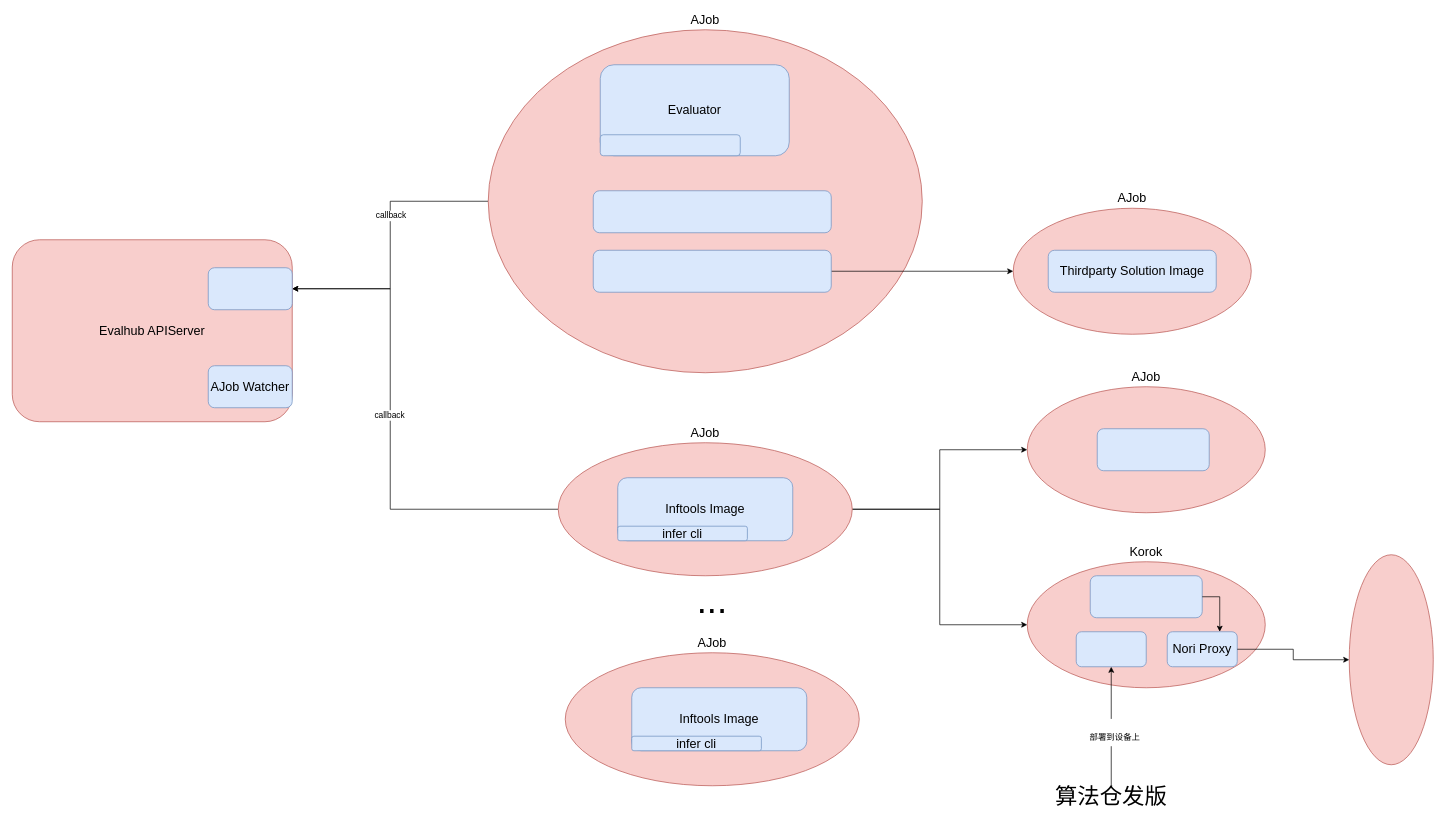
Image size: 1446x821. Some labels were removed from this diagram. Here are the shapes that lost their labels. From the top down, the centre of each, then its label:
At pixel 670 145: "infer proxy cli".
At pixel 712 211: "Snap Solution Image(Platform)".
At pixel 250 288: "internal-cb".
At pixel 712 271: "Snap Base Image".
At pixel 1153 449: "evalcabin Image".
At pixel 1146 596: "Embed Device".
At pixel 1111 649: "NFS".
At pixel 1391 659: "HHD Nori".
